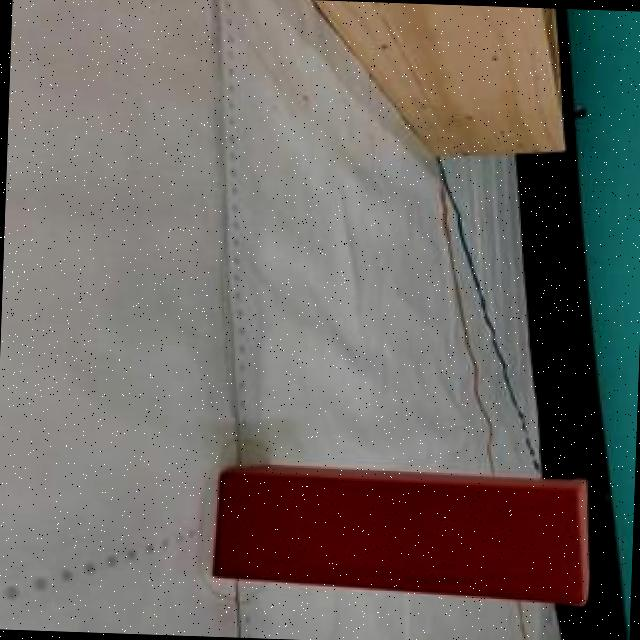redbox: (209, 456, 597, 610)
